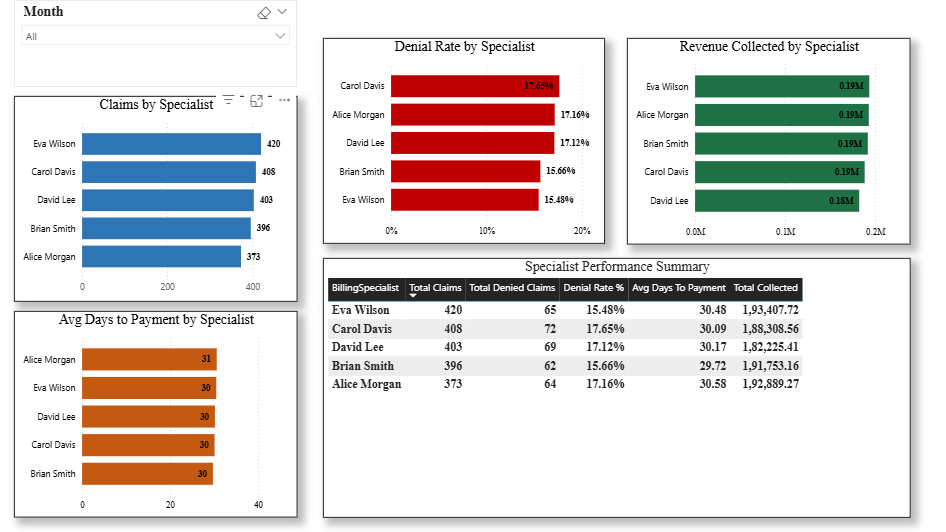

What the dashboard file says about the page in this screenshot:
{"tool":"powerbi","page":{"name":"Team Performance","canvas":[1280,720],"ordinal":4},"visuals":[{"type":"barChart","title":"Claims by Specialist","fields":{"Category":["Claims_Data.BillingSpecialist"],"Y":["Measures Table.Total Claims"]},"box":[19,130.2,382.5,277.8],"z":0},{"type":"barChart","title":"Denial Rate by Specialist","fields":{"Category":["Claims_Data.BillingSpecialist"],"Y":["Measures Table.Denial Rate %"]},"box":[436.5,50.8,381,277.8],"z":1000},{"type":"barChart","title":"Revenue Collected by Specialist","fields":{"Category":["Claims_Data.BillingSpecialist"],"Y":["Measures Table.Total Collected"]},"box":[847.6,50.8,382.5,279.4],"z":2000},{"type":"barChart","title":"Avg Days to Payment by Specialist","fields":{"Category":["Claims_Data.BillingSpecialist"],"Y":["Measures Table.Avg Days To Payment"]},"box":[19,420.6,382.5,279.4],"z":2001},{"type":"tableEx","title":"Specialist Performance Summary","fields":{"Values":["Claims_Data.BillingSpecialist","Measures Table.Total Claims","Measures Table.Total Denied Claims","Measures Table.Denial Rate %","Measures Table.Avg Days To Payment","Measures Table.Total Collected"]},"box":[436.5,349.2,793.7,350.8],"z":2002},{"type":"slicer","fields":{"Values":["Date_Table.MonthName"]},"box":[19,0,382.5,117.5],"z":2003}]}

Visuals, with their boxes in screenshot pixels (x1, y1, x2, y2), scaled from the page's 1280x720 canvas onto the 946x532 screenshot:
"Claims by Specialist" barChart: 14,96,297,301
"Denial Rate by Specialist" barChart: 323,38,604,243
"Revenue Collected by Specialist" barChart: 626,38,909,244
"Avg Days to Payment by Specialist" barChart: 14,311,297,517
"Specialist Performance Summary" tableEx: 323,258,909,517
slicer - Date_Table.MonthName: 14,0,297,87
